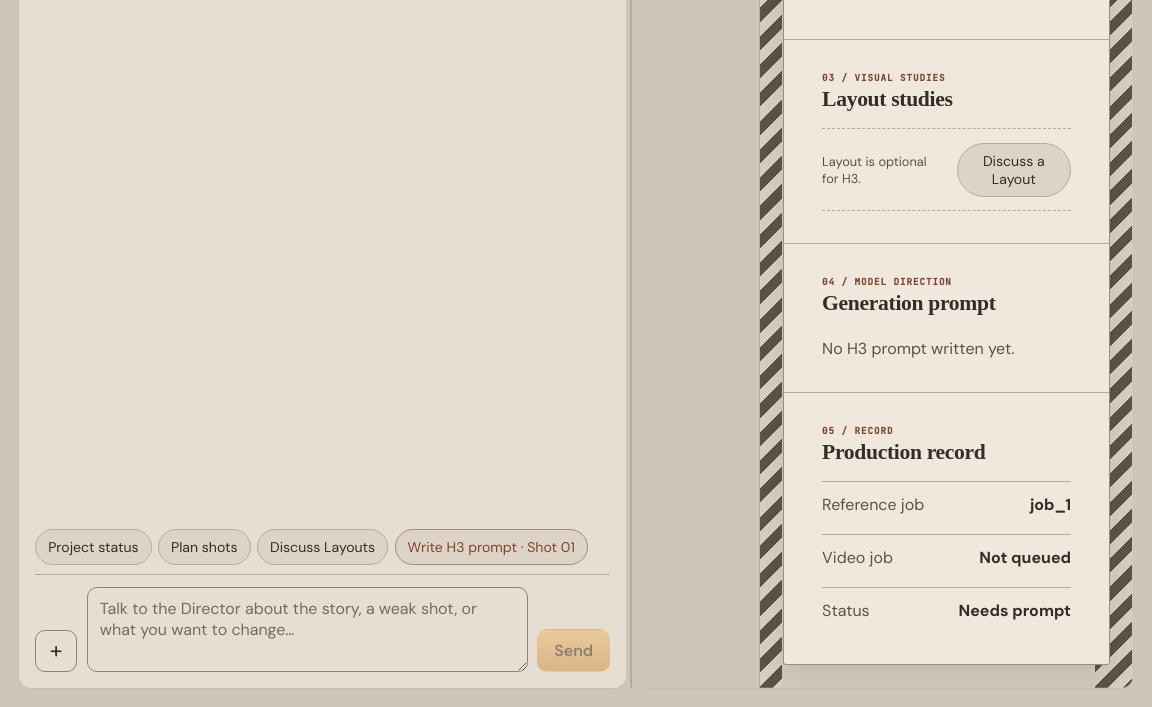
Test: Director shot actions › replaces Send with Cancel and disables the composer during a local response
(page scrolled)
Replace the text in the text box with placeholder "Talk to the Director" with "Plan it": point(307, 630) [87,587,528,672]
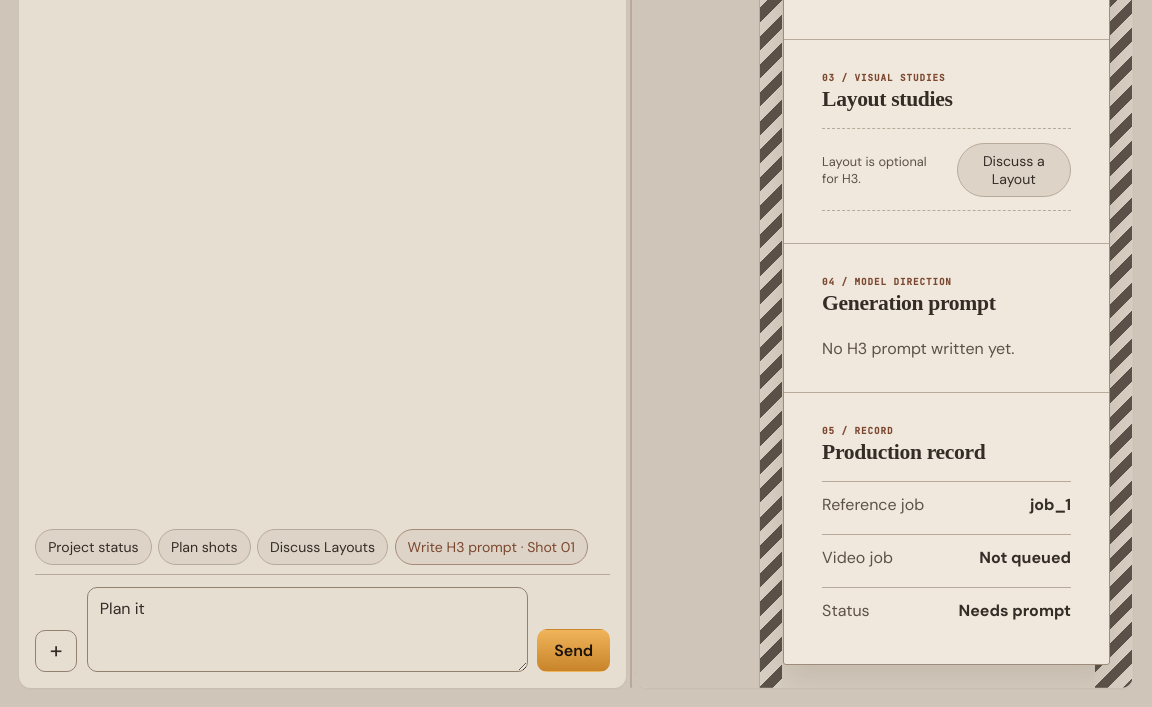
Click the button "Send": point(574, 650) [537,629,610,672]
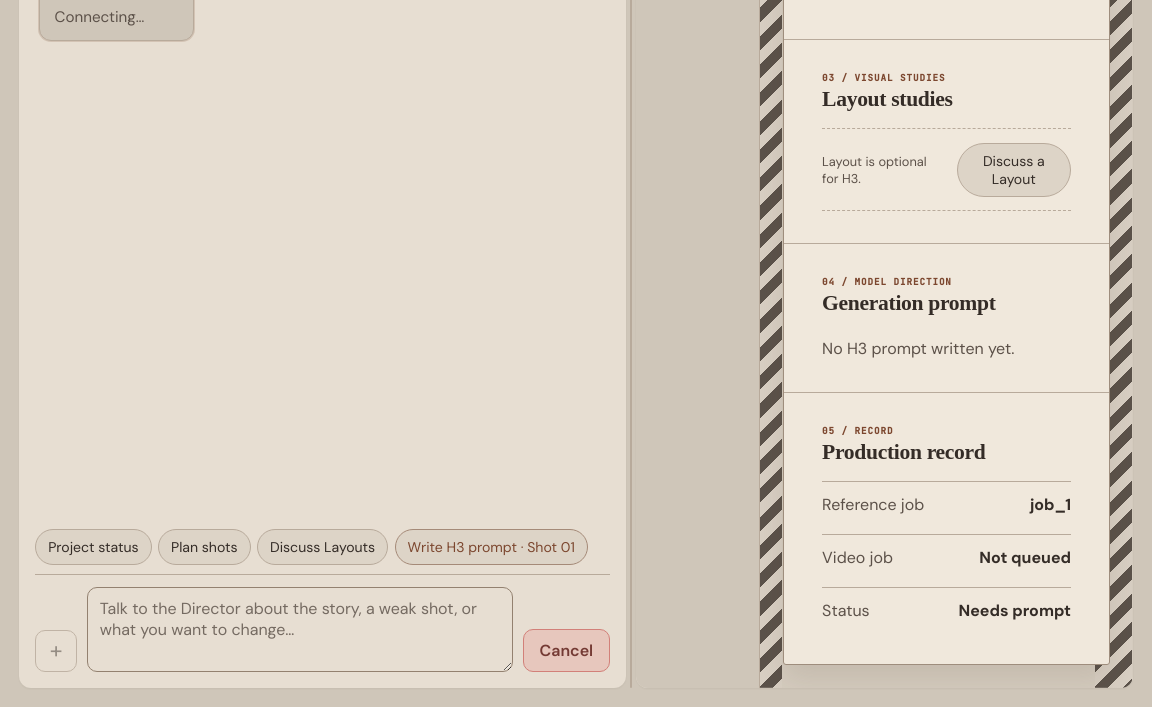
expect the file field named "Add images" is disabled: met, box [35,630,77,672]
expect the button "Cancel" is shown: met, box [522,629,610,672]
expect the text box with placeholder "Talk to the Director" is disabled: met, box [87,587,513,672]
